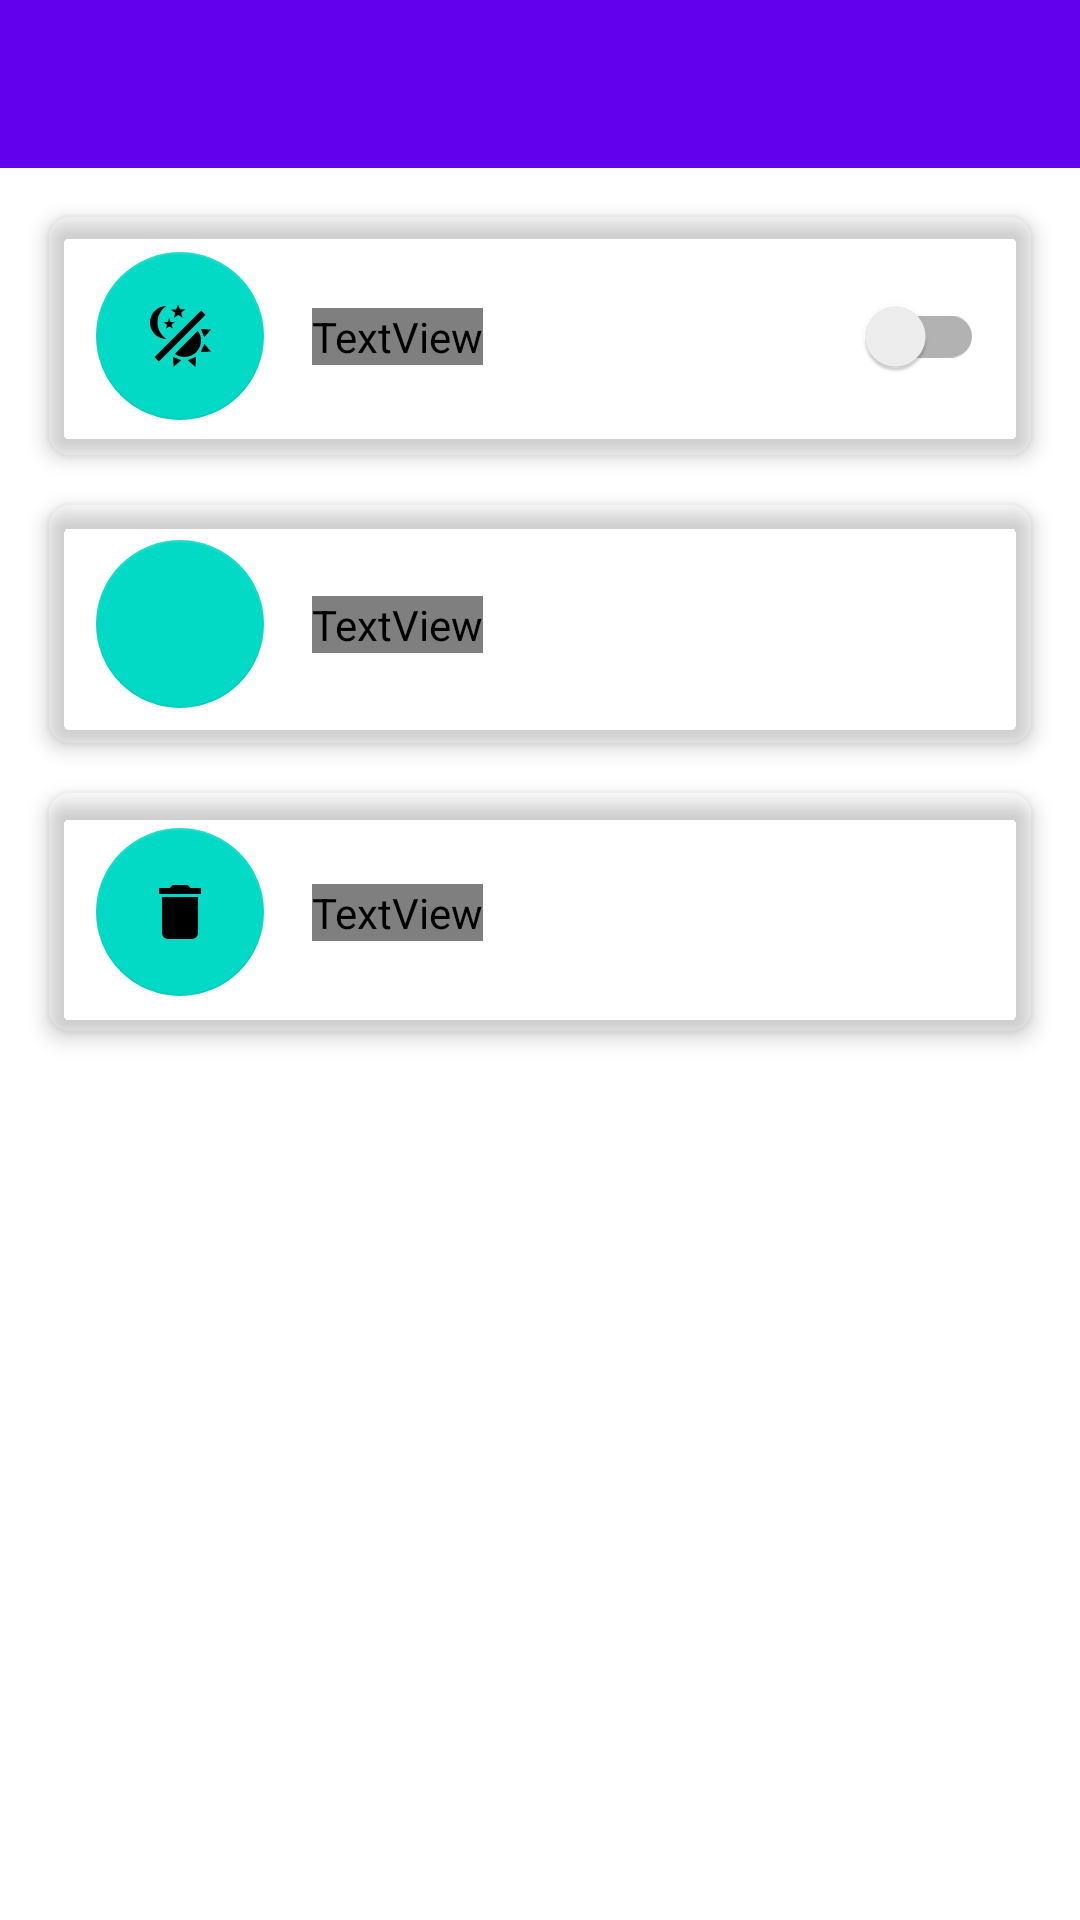

Point at icon controls on the screen. Image size 1080 x 1920, points as (x,y).
delete: (180,912)
theme: (180,336)
